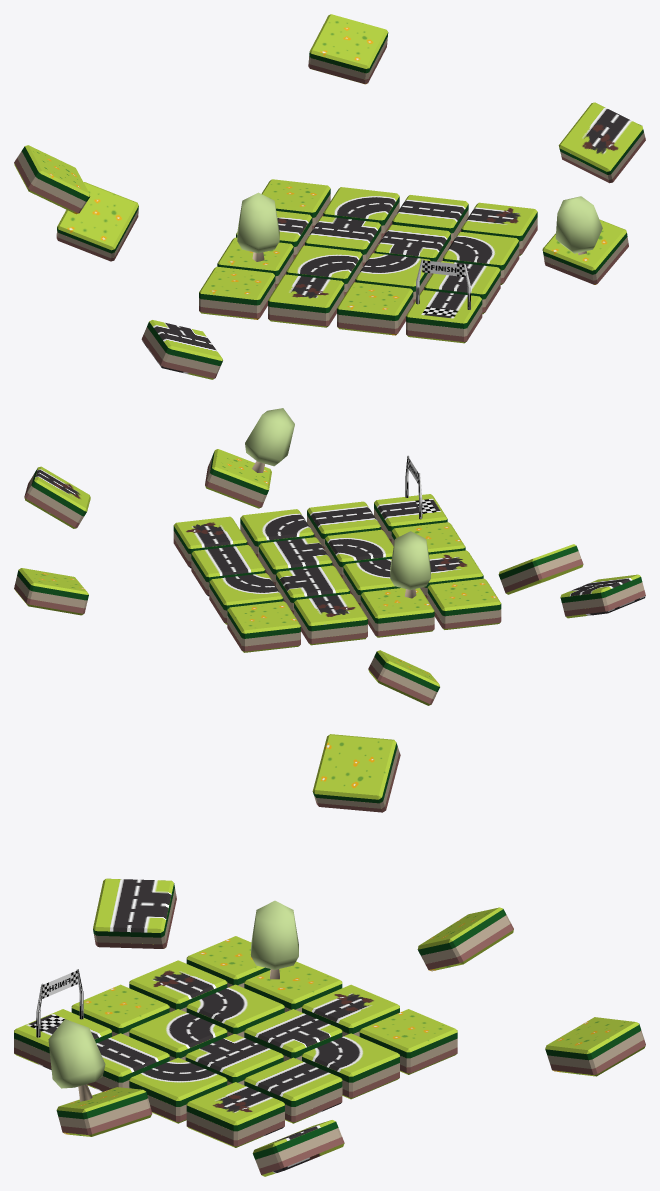
The model's file is terrain.cb2deb1f.glb.
3 views of the same model, one above another, from view 1: azimuth 30°, elevation 25°; view 2: azimuth 150°, elevation 25°; view 3: azimuth 270°, elevation 25° (orthographic). The views are drawn at different scales.
Visible parts, largest first — view 1: roads.002; view 2: roads.002; view 3: roads.002.
Boxes of the visible parts, x1=… form: roads.002: x1=14, y1=14, x2=645, y2=379; roads.002: x1=14, y1=408, x2=645, y2=705; roads.002: x1=14, y1=734, x2=645, y2=1176.
Size of the model in its own units: 10.59 by 2.62 by 8.54.
12 materials, 7 textured.
